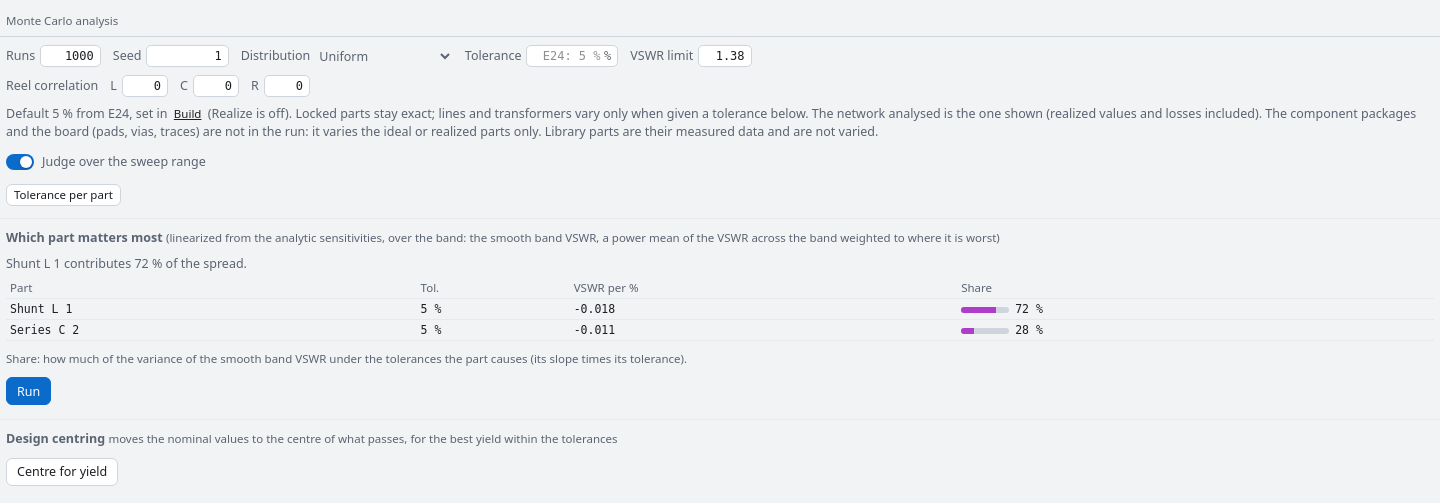
Test: Tolerance panel › stores a correlation typed per kind
The width and height of the screenshot is (1440, 503).
Replace the text in the field named "Correlation of the C parts" with "0.6". click: (216, 86)
box: [194,78,238,94]
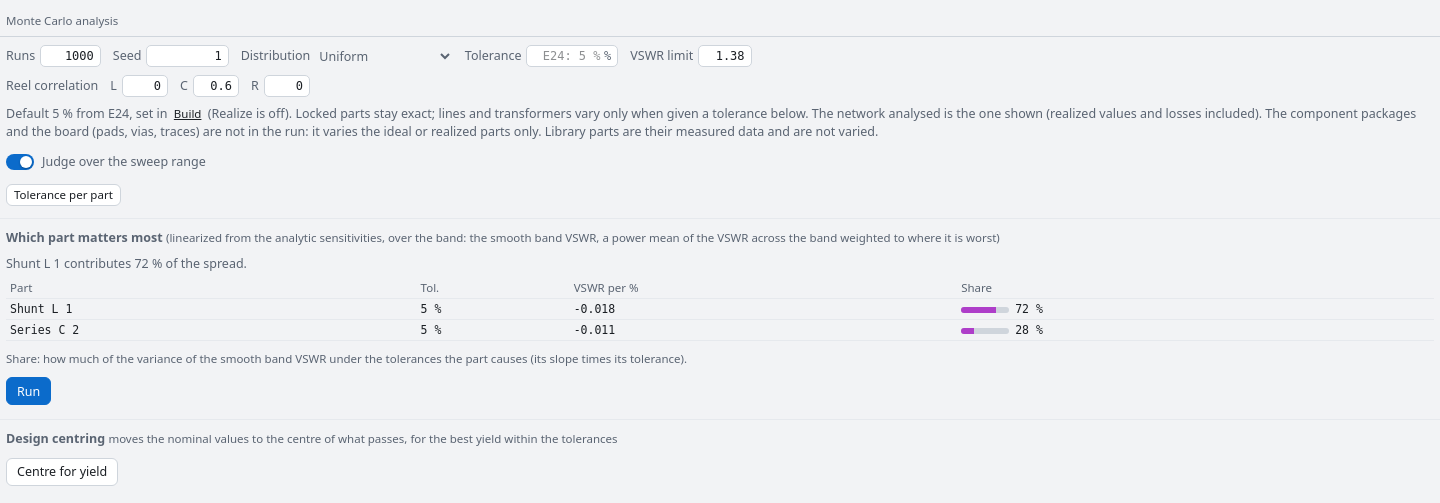
Press Enter in the field named "Correlation of the C parts", box [194,78,238,94]
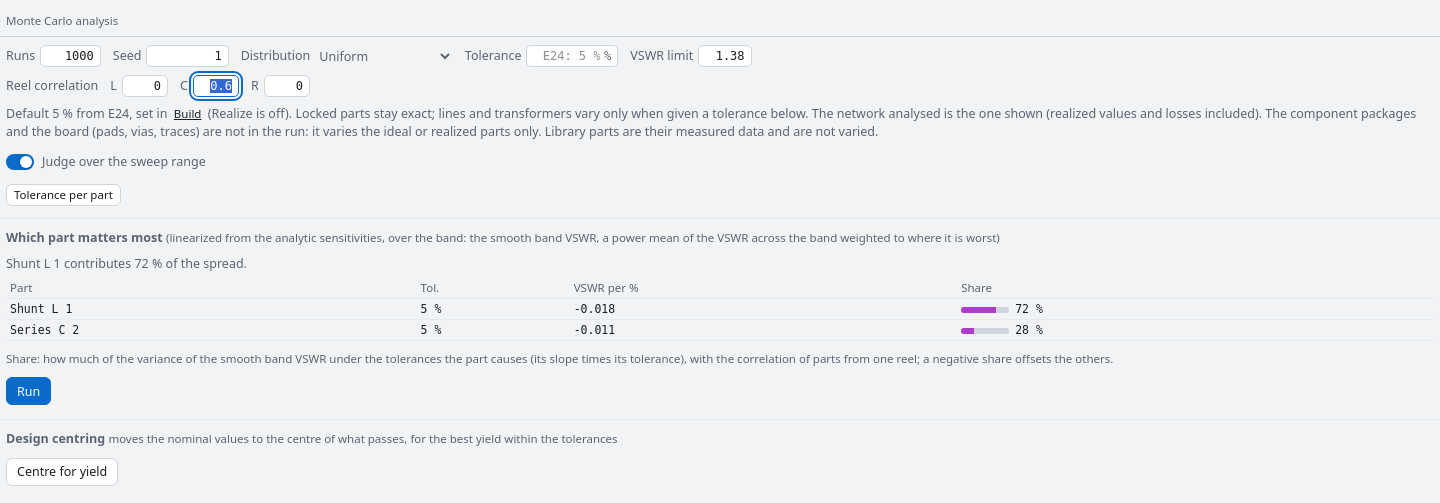
Expected: the text "a negative share offsets the others" is shown, [684,351,1110,366]
